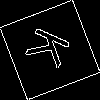K: (25, 25, 80, 74)
